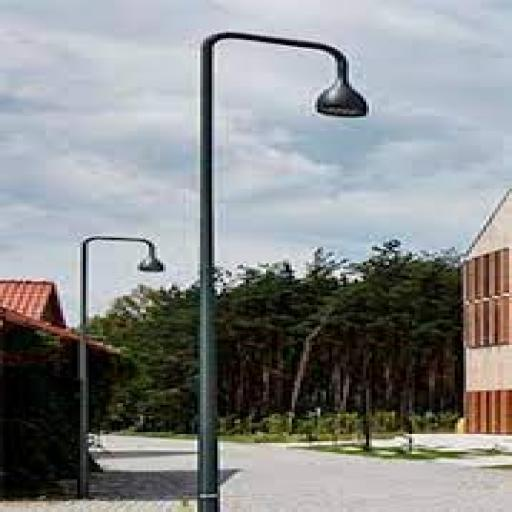Light-pole: (170, 5, 402, 511), (59, 216, 171, 483)
